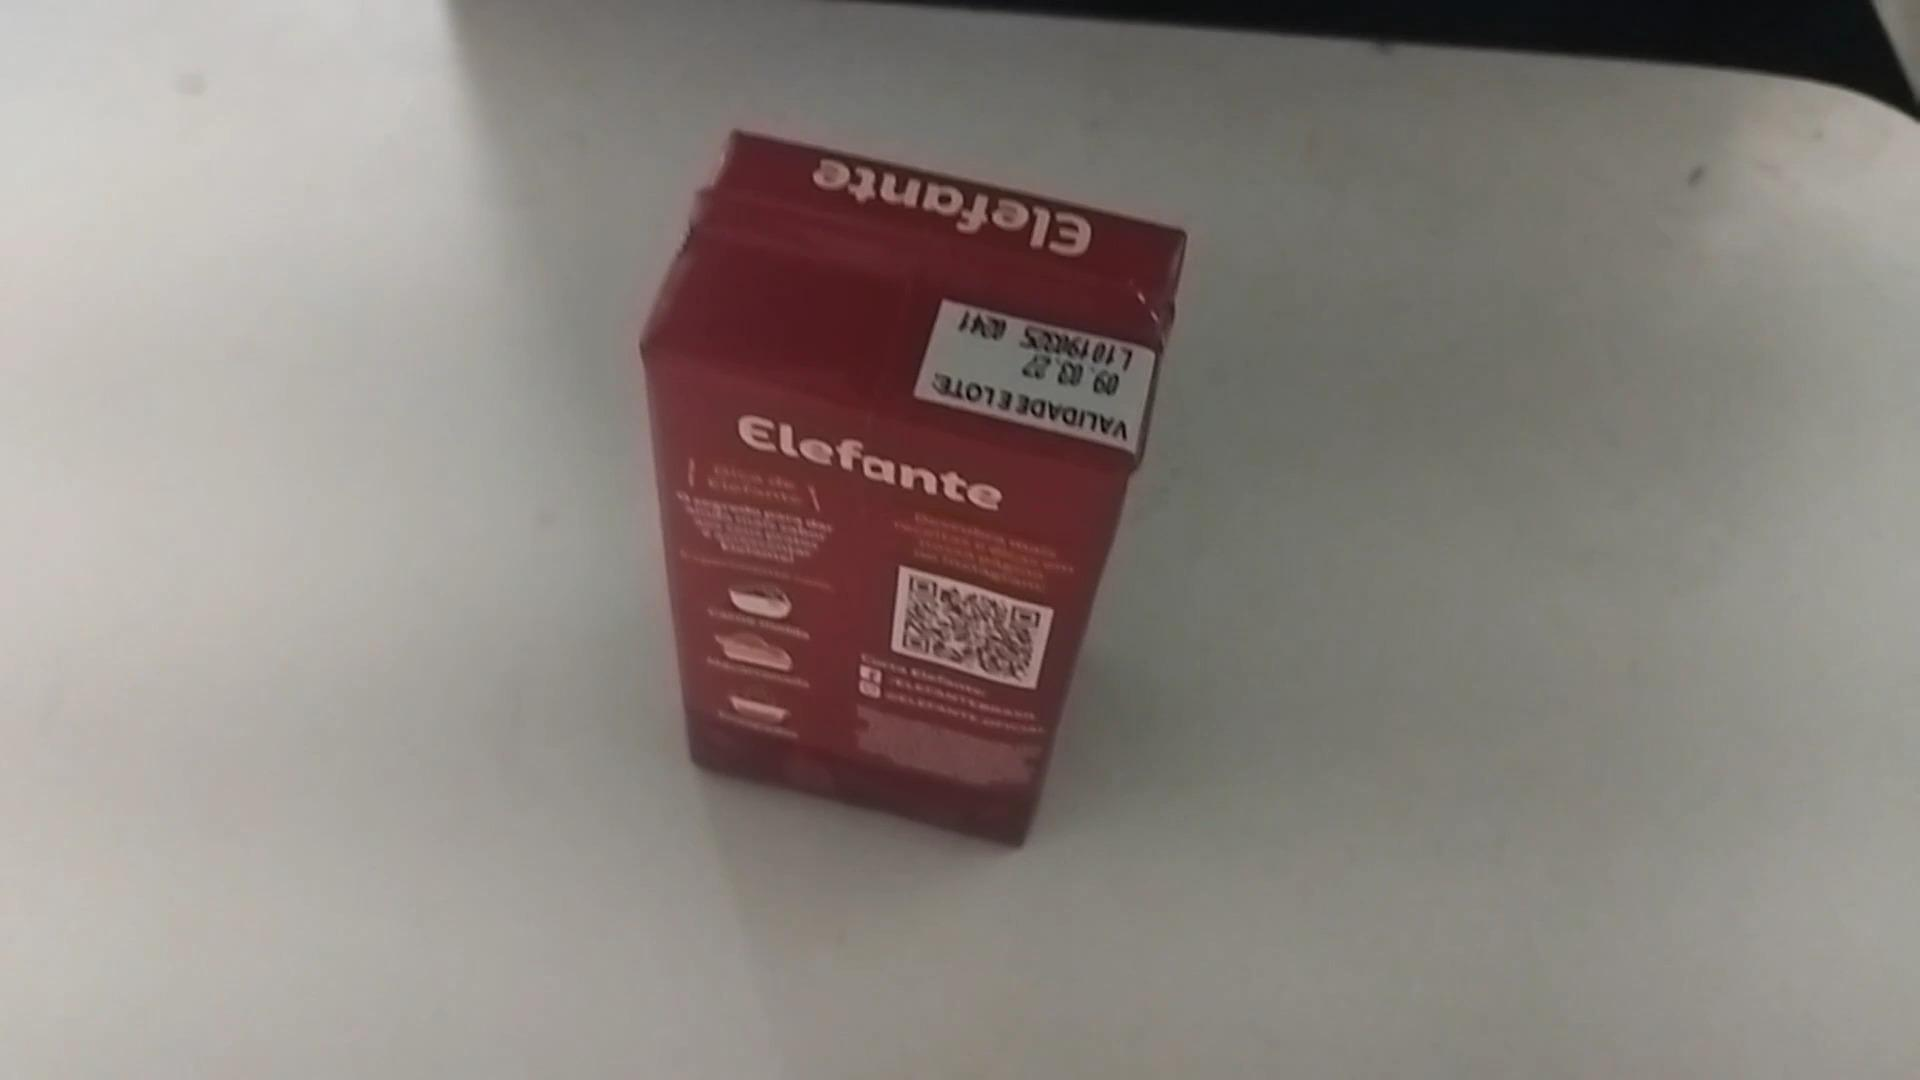tomate: (638, 127, 1183, 849)
